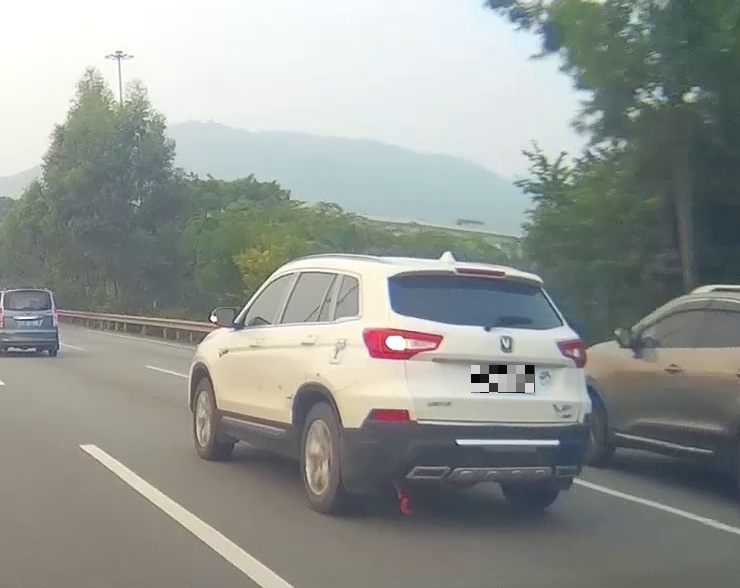L_light: (362, 326, 444, 360), (0, 307, 4, 329)
R_light: (557, 339, 587, 368), (53, 308, 58, 327)
T_light: (456, 268, 505, 278), (23, 307, 33, 309)
day-left: (358, 258, 594, 510)
day-no: (0, 287, 60, 357)
plate_1: (471, 365, 535, 393)
